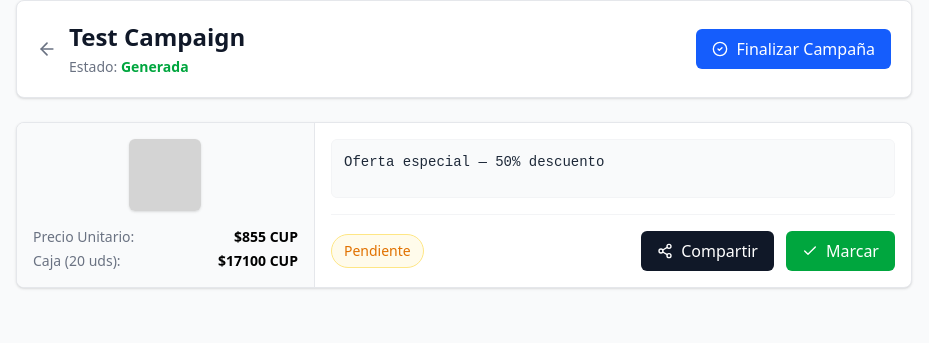
CampaignShare sent-status rule › shows a success notice after fallback-shared with copy
Expected: the heading "Test Campaign" is shown, [69,21,245,53]
Click the button "Compartir".
click(708, 251)  # box [641,231,774,271]
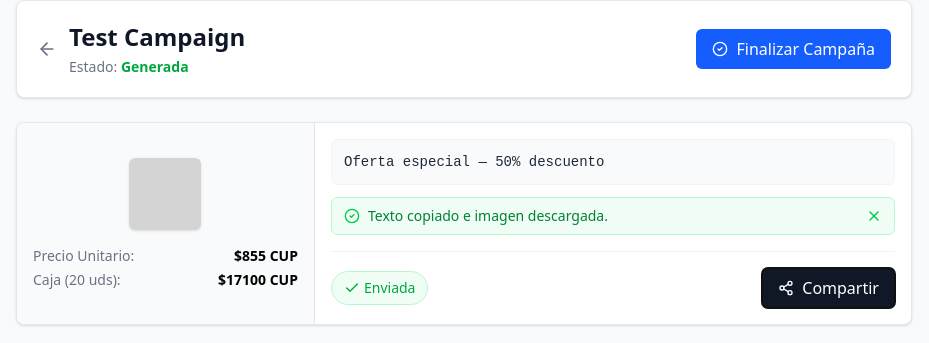
Expected: the text "Texto copiado e imagen descargada." is shown, [368,206,608,225]
